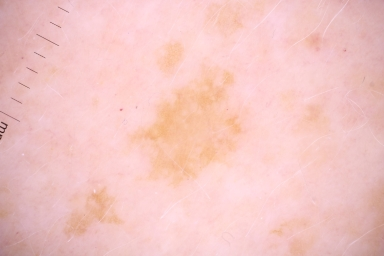nevus: (132, 67, 246, 184)
